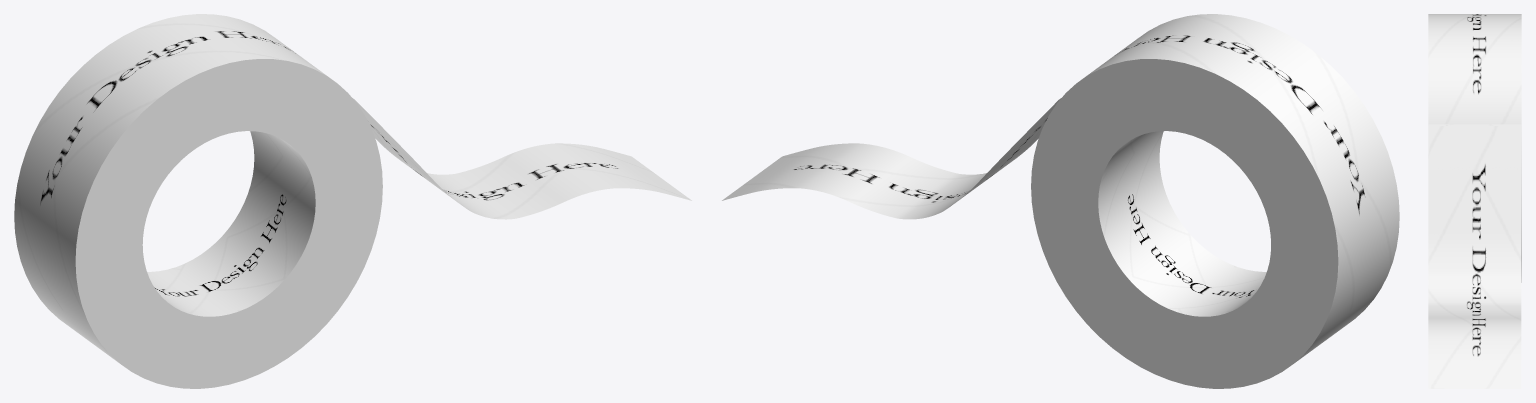
The model's file is Box_Tape.glb.
3 views of the same model, side by side, from view 1: azimuth 30°, elevation 25°; view 2: azimuth 150°, elevation 25°; view 3: azimuth 270°, elevation 25° (orthographic). The views are drawn at different scales.
Parts seen in each view (by area): view 1: Tape_roll, Tape_roll.001; view 2: Tape_roll, Tape_roll.001; view 3: Tape_roll.
Part boxes in pixels (x1=…): Tape_roll: x1=14, y1=14, x2=691, y2=362; Tape_roll.001: x1=75, y1=59, x2=382, y2=388; Tape_roll: x1=722, y1=14, x2=1399, y2=363; Tape_roll.001: x1=1031, y1=59, x2=1338, y2=388; Tape_roll: x1=1428, y1=14, x2=1521, y2=388.
Bounding box in the file's own units: 0.1178 × 0.0586 × 0.0203.
1 material, 1 textured.
